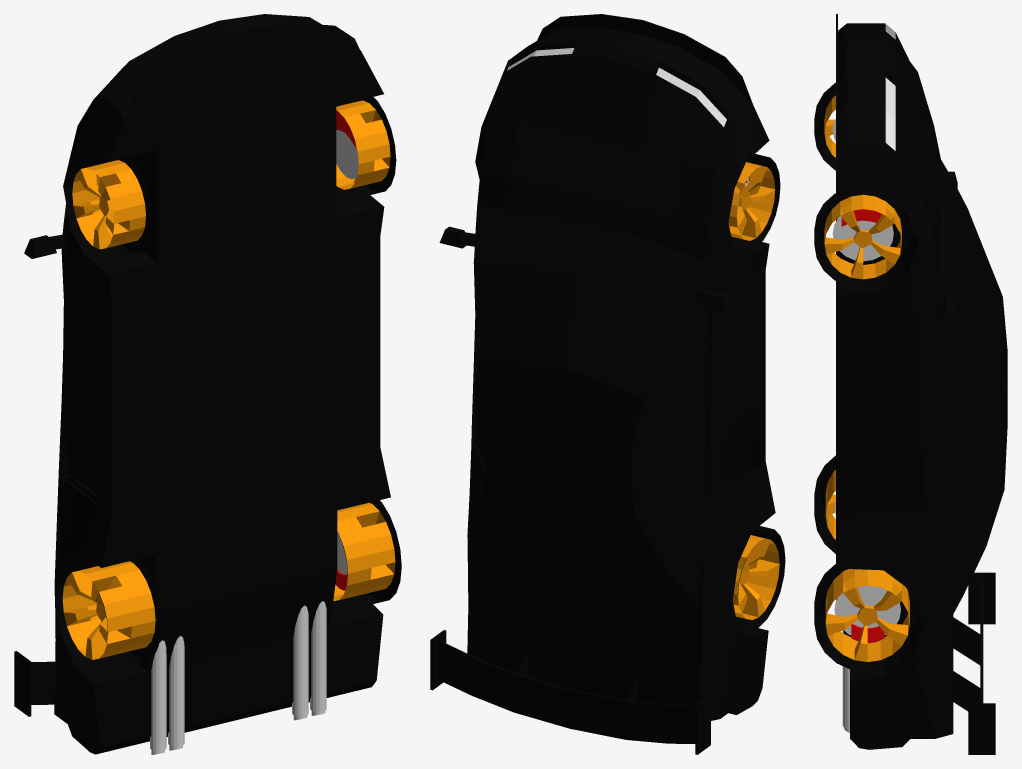
Rendered from JDMCar.fbx.
3 views of the same model, side by side, from view 1: azimuth 30°, elevation 25°; view 2: azimuth 150°, elevation 25°; view 3: azimuth 270°, elevation 25° (orthographic). The views are drawn at different scales.
Visible parts, largest first — view 1: JDM Car Body, RearRightWheel, FrontRightWheel, RearLeftWheel, FrontLeftWheel; view 2: JDM Car Body, RearRightWheel, FrontRightWheel; view 3: JDM Car Body, RearLeftWheel, FrontLeftWheel, RearRightWheel, FrontRightWheel, 2.WheelBrake.Bk.L, 2.WheelBrake.Ft.L.
Part boxes in pixels (left/top/right/bottom): JDM Car Body: left=14, top=14, right=390, bottom=754; RearRightWheel: left=56, top=557, right=161, bottom=671; FrontRightWheel: left=66, top=154, right=151, bottom=260; RearLeftWheel: left=331, top=500, right=401, bottom=613; FrontLeftWheel: left=336, top=97, right=396, bottom=200; JDM Car Body: left=430, top=14, right=775, bottom=754; RearRightWheel: left=732, top=526, right=785, bottom=630; FrontRightWheel: left=728, top=154, right=780, bottom=250; JDM Car Body: left=836, top=14, right=1007, bottom=754; RearLeftWheel: left=814, top=564, right=921, bottom=672; FrontLeftWheel: left=814, top=191, right=912, bottom=288; RearRightWheel: left=814, top=455, right=835, bottom=553; FrontRightWheel: left=814, top=83, right=835, bottom=170; 2.WheelBrake.Bk.L: left=851, top=624, right=884, bottom=643; 2.WheelBrake.Ft.L: left=841, top=209, right=882, bottom=226.
Size of the model in its own units: 138 by 301 by 79.7.
